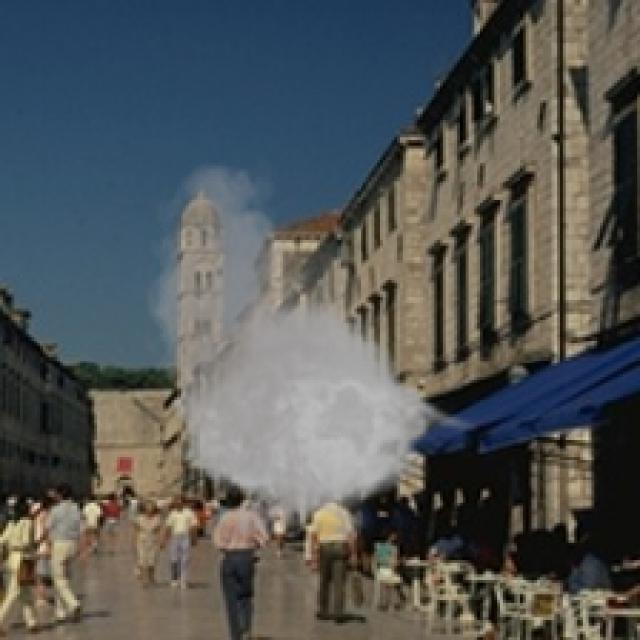Smoke: (137, 157, 480, 563)
